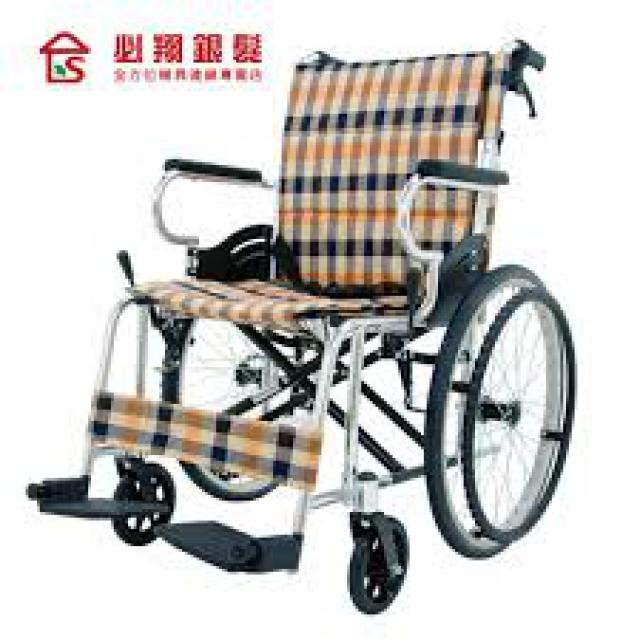wheelchair: (12, 31, 580, 623)
